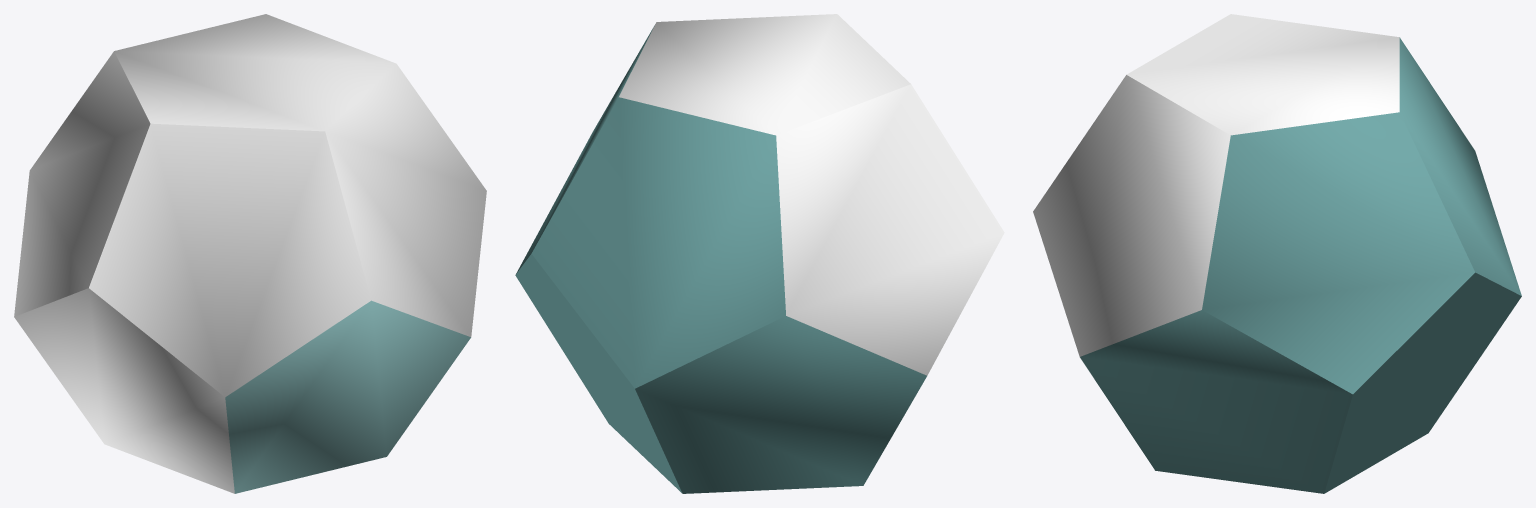
The model's file is 4.Dodecaedro.gltf.
3 views of the same model, side by side, from view 1: azimuth 30°, elevation 25°; view 2: azimuth 150°, elevation 25°; view 3: azimuth 270°, elevation 25° (orthographic). The views are drawn at different scales.
Parts seen in each view (by area): view 1: 4.Dodecaedro; view 2: 4.Dodecaedro; view 3: 4.Dodecaedro.
Boxes of the visible parts, <box> form: 4.Dodecaedro: <box>14,14,486,493</box>; 4.Dodecaedro: <box>515,14,1004,493</box>; 4.Dodecaedro: <box>1033,14,1521,493</box>.
Size of the model in its own units: 0.0769 by 0.0655 by 0.0809.
